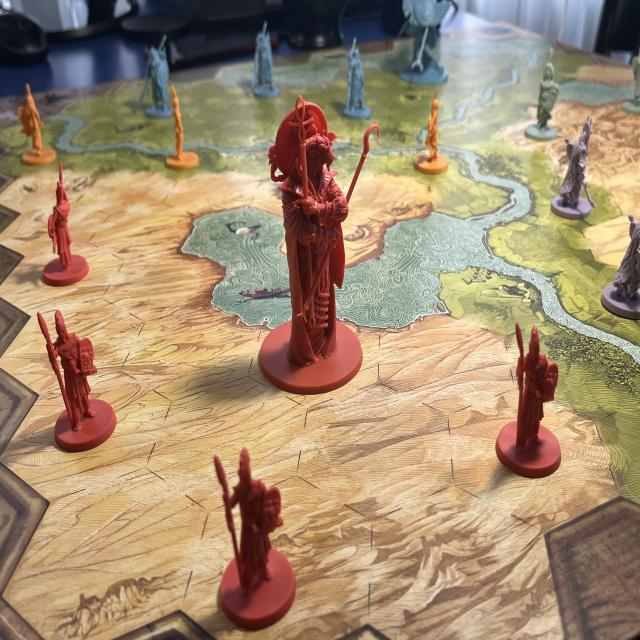amon: (257, 96, 385, 395)
amon_follower: (212, 443, 299, 634), (493, 311, 565, 478), (35, 307, 118, 451), (30, 152, 96, 287)
isis_follower: (132, 34, 174, 123), (336, 39, 376, 120), (248, 19, 277, 95)
